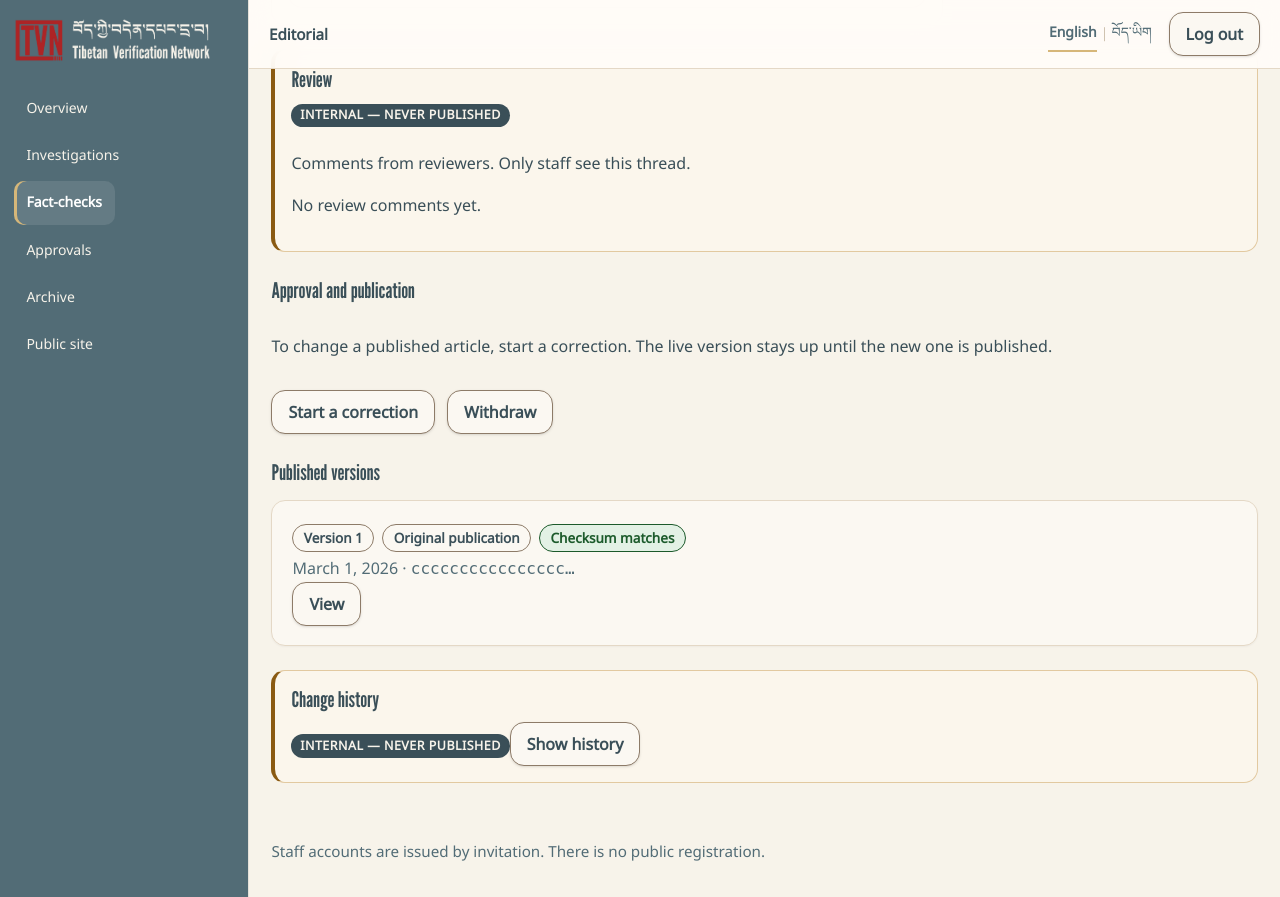
Test: corrections and withdrawal › lists published versions with checksum status and opens one
The width and height of the screenshot is (1280, 897).
(page scrolled)
Expected: the text "Checksum matches" is shown, [539,524,686,552]
Click the button "View" at (327, 604), box [292,582,361,626]
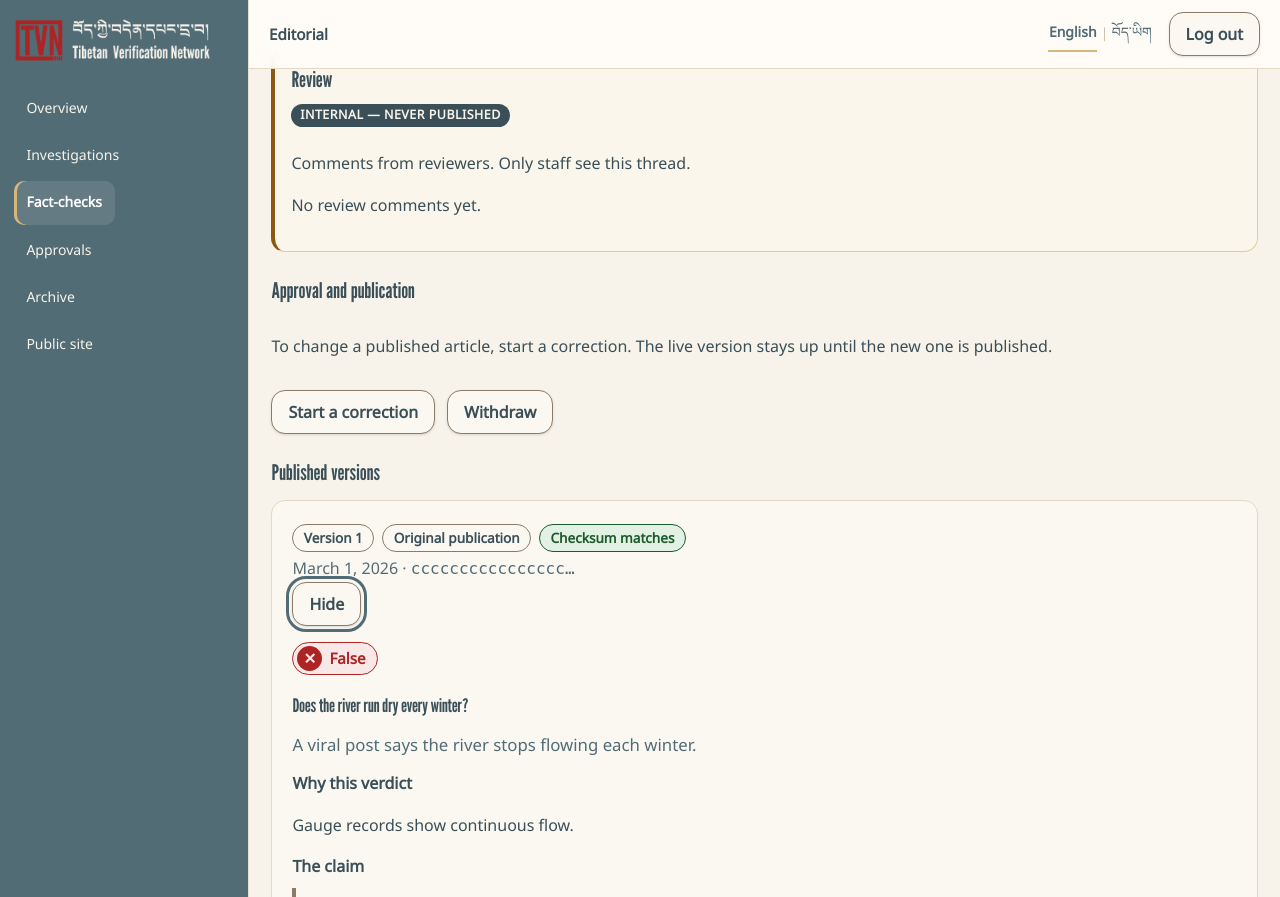
Expected: the text "Gauge records show continuous flow." is shown, [292,814,574,836]
